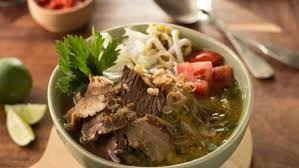soto: (34, 9, 260, 168)
